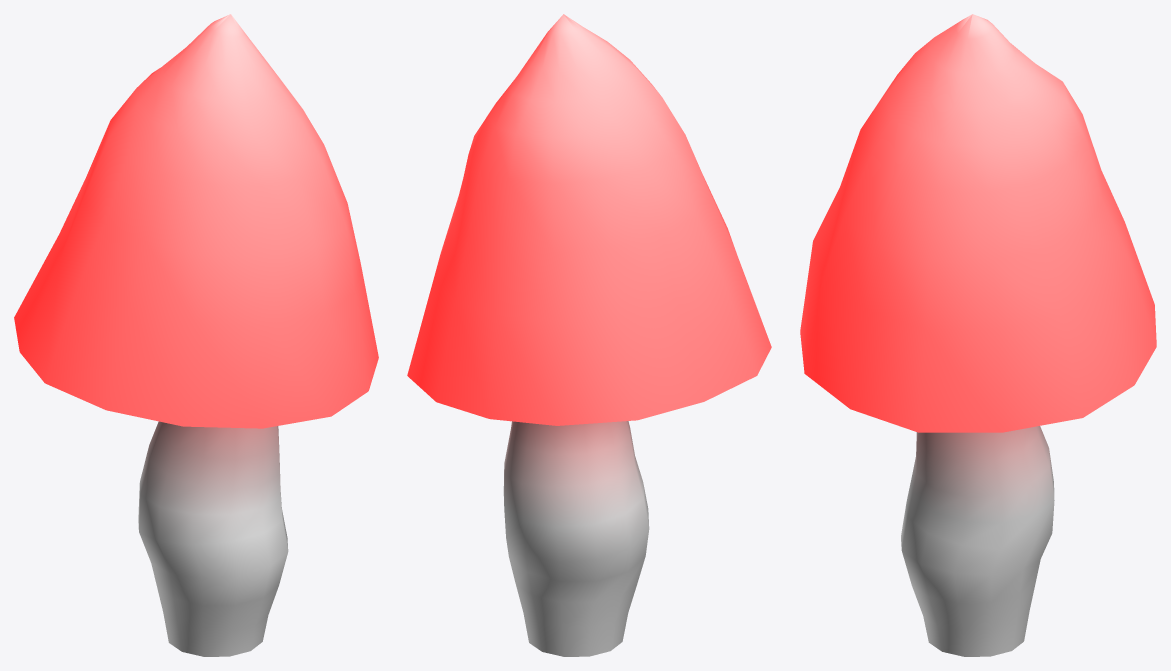
The model's file is mushroom_3.glb.
3 renders of one model, left to right at view 1: azimuth 30°, elevation 25°; view 2: azimuth 150°, elevation 25°; view 3: azimuth 270°, elevation 25°, orthographic.
Parts seen in each view (by area): view 1: geo1; view 2: geo1; view 3: geo1.
Part boxes in pixels (x1,y1,x2,y2): geo1: (14, 14, 378, 656); geo1: (407, 14, 771, 656); geo1: (800, 14, 1156, 656).
Size of the model in its own units: 0.1416 by 0.2696 by 0.1384.
